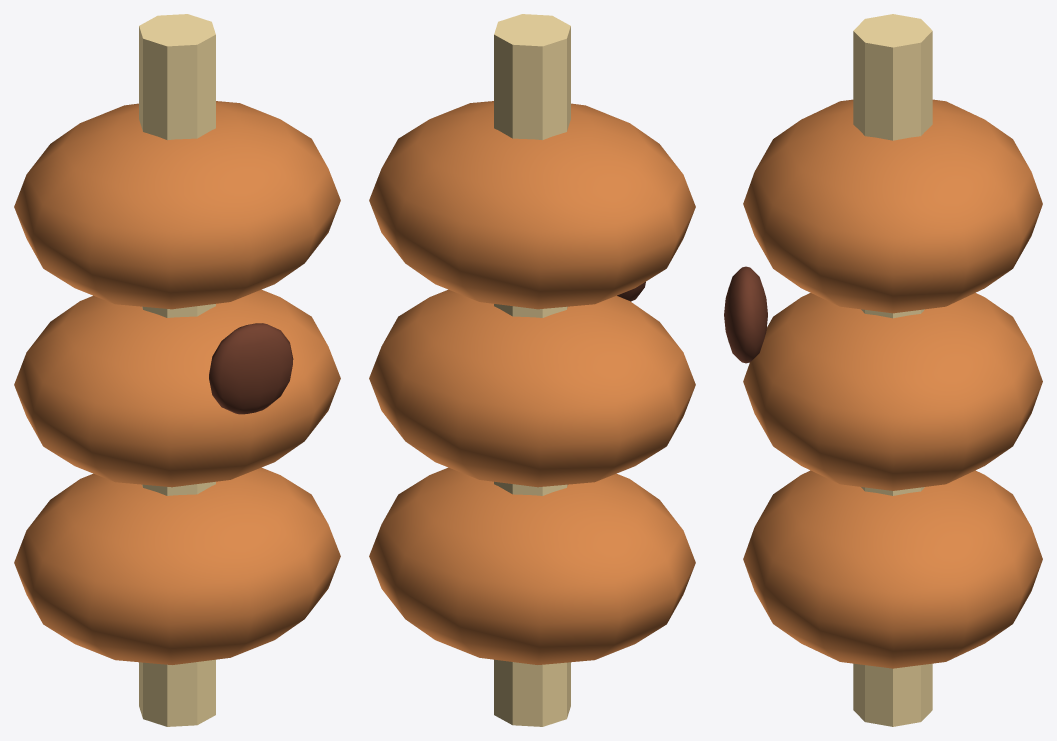
File: skewer.glb
3 renders of one model, left to right at view 1: azimuth 30°, elevation 25°; view 2: azimuth 150°, elevation 25°; view 3: azimuth 270°, elevation 25°, orthographic.
Parts seen in each view (by area): view 1: grilled-bite.002, grilled-bite, grilled-bite.001, wooden-stick, sauce; view 2: grilled-bite.002, grilled-bite.001, grilled-bite, wooden-stick; view 3: grilled-bite.002, grilled-bite, grilled-bite.001, wooden-stick, sauce.
Boxes of the visible parts, <box> form: grilled-bite.002: <box>14,101,340,309</box>; grilled-bite: <box>14,467,340,664</box>; grilled-bite.001: <box>14,289,340,487</box>; wooden-stick: <box>139,14,215,726</box>; sauce: <box>209,323,293,414</box>; grilled-bite.002: <box>369,101,695,309</box>; grilled-bite.001: <box>369,289,695,487</box>; grilled-bite: <box>369,467,695,664</box>; wooden-stick: <box>494,14,570,726</box>; grilled-bite.002: <box>743,99,1042,313</box>; grilled-bite: <box>743,470,1042,668</box>; grilled-bite.001: <box>743,293,1042,490</box>; wooden-stick: <box>853,14,932,726</box>; sauce: <box>724,266,767,363</box>.
Bounding box in the file's own units: 0.2736 × 0.612 × 0.2604.
